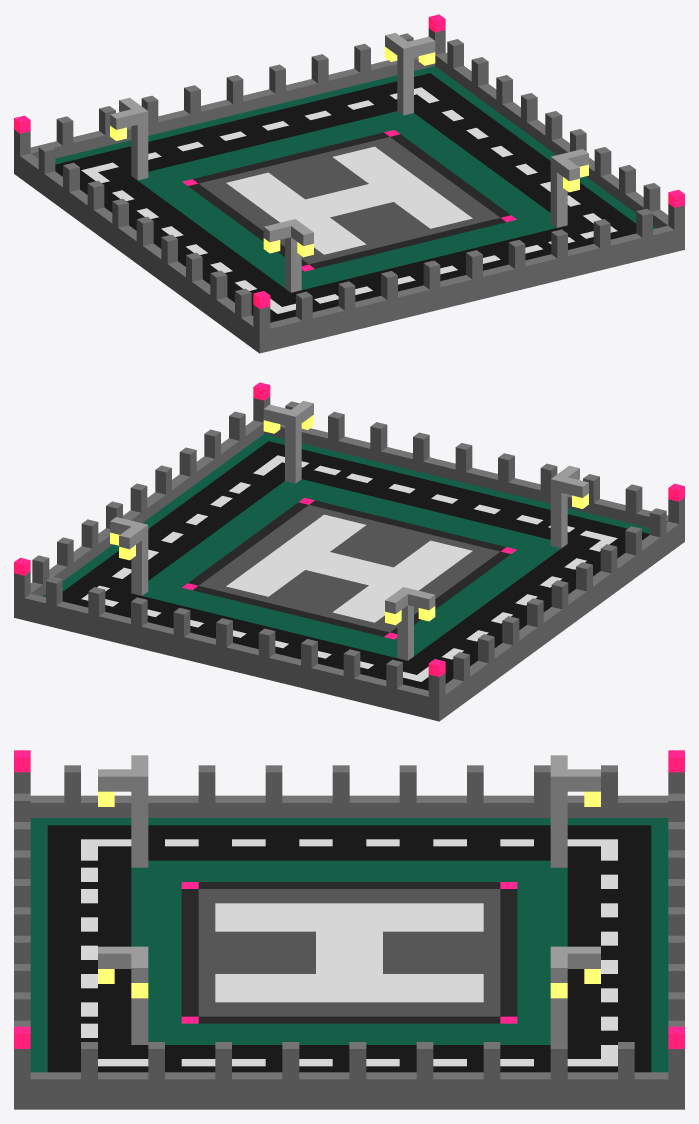
Rendered from platform.gltf.
3 views of the same model, one above another, from view 1: azimuth 30°, elevation 25°; view 2: azimuth 150°, elevation 25°; view 3: azimuth 270°, elevation 25° (orthographic). The views are drawn at different scales.
Visible parts, largest first — view 1: Object_2; view 2: Object_2; view 3: Object_2.
Boxes of the visible parts, left/top/right/bottom form: Object_2: left=14, top=14, right=684, bottom=353; Object_2: left=14, top=382, right=684, bottom=721; Object_2: left=14, top=750, right=684, bottom=1109.
Bounding box in the file's own units: 4 × 0.7 × 4.
Materials: 1 (1 with a texture image).
